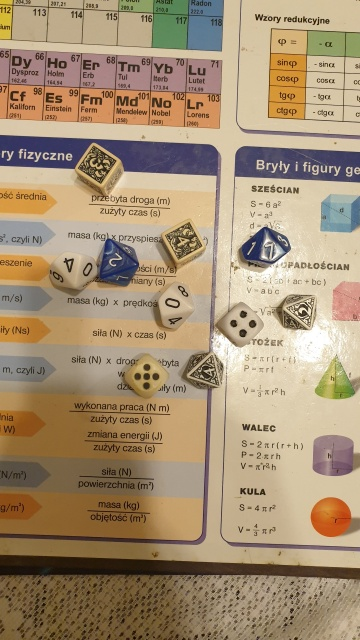d10-10: (156, 275, 192, 335)
d10-2: (96, 235, 140, 290)
d10-4: (44, 248, 98, 292)
d10-7: (238, 225, 293, 271)
d6-4: (217, 298, 265, 351)
d6-5: (121, 353, 171, 400)
d6p-3: (73, 140, 127, 198)
d6p-4: (158, 218, 206, 268)
d8p-2: (278, 291, 321, 335)
d8p-4: (181, 348, 227, 394)
